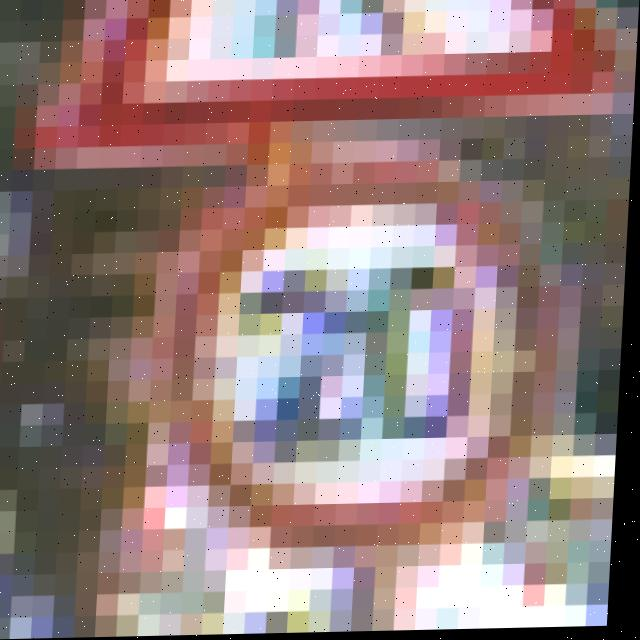speed_limit_20: (138, 146, 577, 589)
